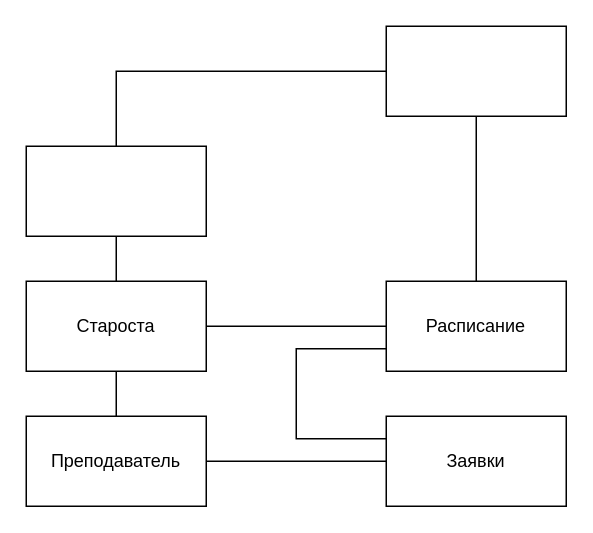
The diagram is 593 pixels wide and 533 high, and some of its shapes have lost their labels. The shapes that lost their labels are listed below. From the top down, each one's box as (x1, y1, x2, y2) in pixels, then its label:
(385, 25, 566, 116): Приложение
(25, 145, 206, 236): Администратор
